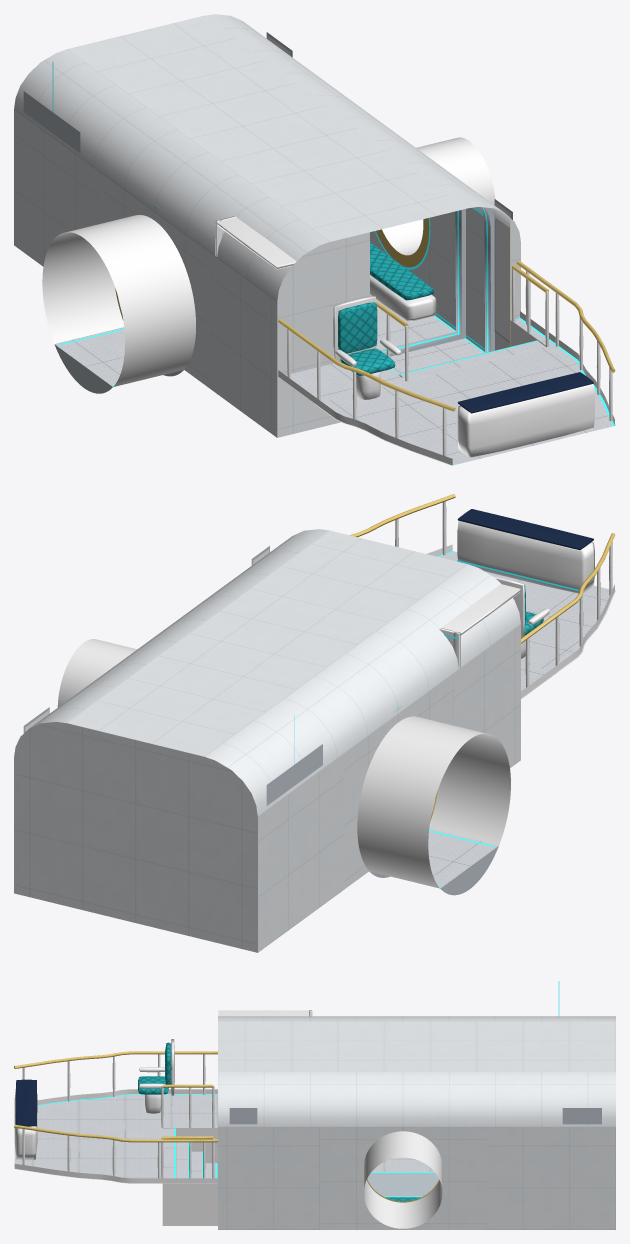
Rendered from starpod_interior_v10.glb.
3 views of the same model, one above another, from view 1: azimuth 30°, elevation 25°; view 2: azimuth 150°, elevation 25°; view 3: azimuth 270°, elevation 25° (orthographic). The views are drawn at different scales.
Bounding box in the file's own units: 7.28 × 4.2 × 13.01.
10 materials, 10 textured.
